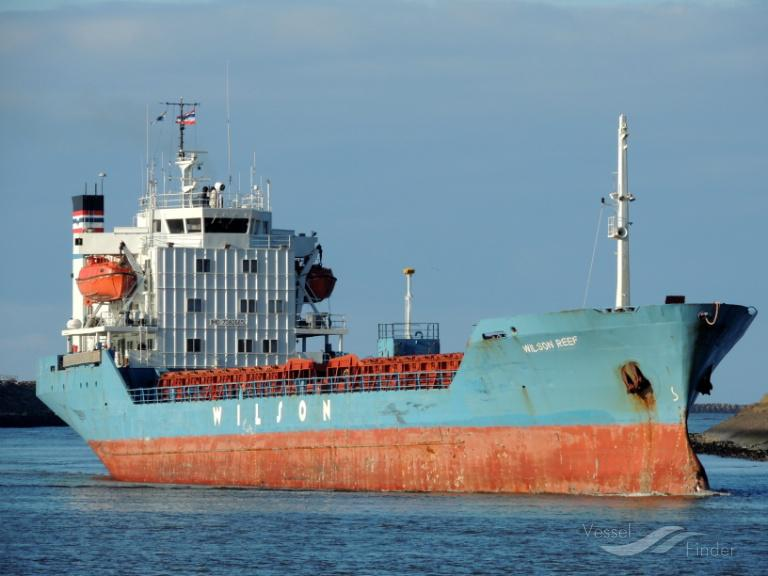OCR: (208, 400, 338, 431), (518, 336, 585, 356)
